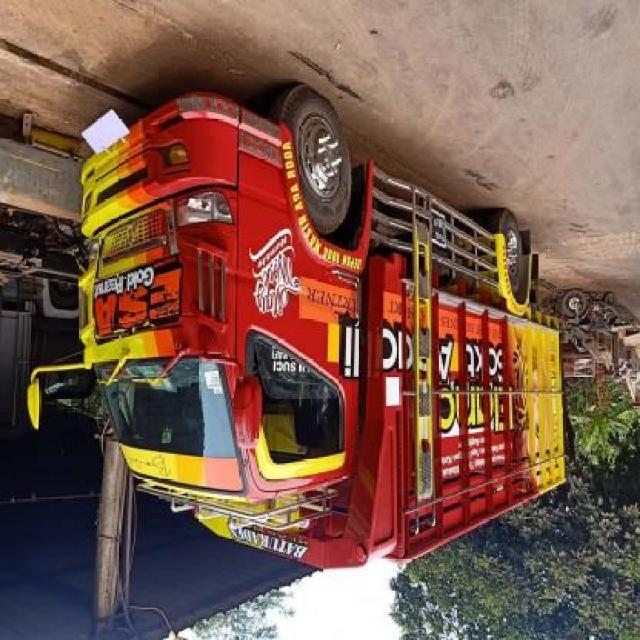truck: (31, 87, 566, 573)
